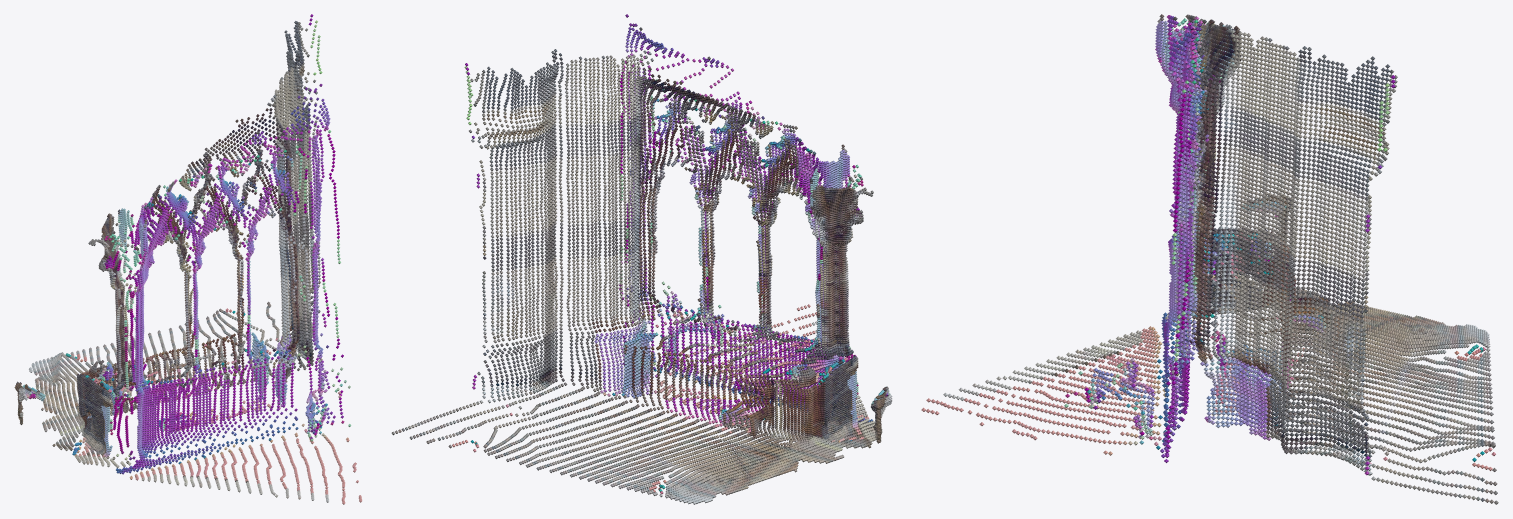
Rendered from combine_gt.glb.
3 views of the same model, side by side, from view 1: azimuth 30°, elevation 25°; view 2: azimuth 150°, elevation 25°; view 3: azimuth 270°, elevation 25° (orthographic). The views are drawn at different scales.
Visible parts, largest first — view 1: world; view 2: world; view 3: world.
Boxes of the visible parts, x1,y1,x2,y2 form: world: [14, 14, 362, 504]; world: [391, 14, 892, 504]; world: [921, 14, 1498, 504].
Size of the model in its own units: 6.42 by 5.59 by 6.72.
